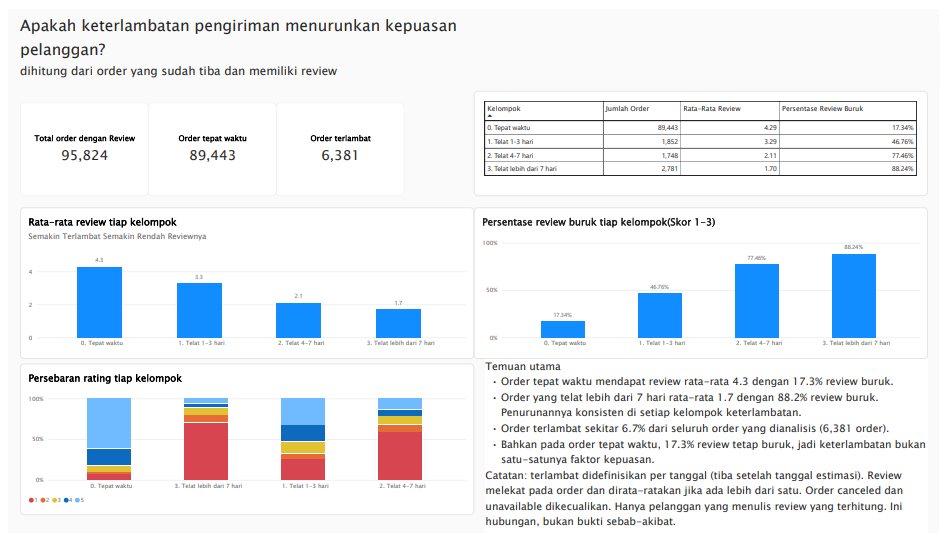

The page's visual inventory and layout, read from the dashboard file:
{"tool":"powerbi","page":{"name":"Pengiriman dan Kepuasan","canvas":[1920,1080],"ordinal":1},"visuals":[{"type":"textbox","box":[24,0,1080,192],"z":0},{"type":"cardVisual","fields":{"Data":["Sum(Review Skor Terlambat(Level Order).Jumlah Order)"]},"box":[24,192,264,192],"z":1000},{"type":"cardVisual","fields":{"Data":["Sum(Review Skor Terlambat(Level Order).Jumlah Order)"]},"box":[288,192,264,192],"z":2000},{"type":"cardVisual","fields":{"Data":["Sum(Review Skor Terlambat(Level Order).Jumlah Order)"]},"box":[552,192,264,192],"z":3000},{"type":"clusteredColumnChart","title":"Rata-rata review tiap kelompok","fields":{"Category":["Review Skor Terlambat(Level Order).Kelompok"],"Y":["Sum(Review Skor Terlambat(Level Order).Rata Review)"]},"box":[24,408,936,312],"z":4000},{"type":"clusteredColumnChart","title":"Persentase review buruk tiap kelompok(Skor 1-3)","fields":{"Category":["Review Skor Terlambat(Level Order).Kelompok"],"Y":["Review Skor Terlambat(Level Order).Persen"]},"box":[960,408,936,312],"z":5000},{"type":"tableEx","title":"Persebaran Data","fields":{"Values":["Review Skor Terlambat(Level Order).Kelompok","Sum(Review Skor Terlambat(Level Order).Jumlah Order)","Review Skor Terlambat(Level Order).Rata Review","Review Skor Terlambat(Level Order).Persen"]},"box":[960,168,936,216],"z":6000},{"type":"hundredPercentStackedColumnChart","title":"Persebaran rating tiap kelompok","fields":{"Category":["Persebaran Review.kelompok"],"Series":["Persebaran Review.skor"],"Y":["Sum(Persebaran Review.jumlah_order)"]},"box":[24,730,936,312],"z":7000},{"type":"textbox","box":[984,720,912,360],"z":8000}]}

Visuals, with their boxes in screenshot pixels (x1, y1, x2, y2), scaled from the page's 1920x1080 canvas onto the 947x542 screenshot:
textbox: BBox(12, 0, 545, 96)
cardVisual - Sum(Review Skor Terlambat(Level Order).Jumlah Order): BBox(12, 96, 142, 193)
cardVisual - Sum(Review Skor Terlambat(Level Order).Jumlah Order): BBox(142, 96, 272, 193)
cardVisual - Sum(Review Skor Terlambat(Level Order).Jumlah Order): BBox(272, 96, 402, 193)
"Rata-rata review tiap kelompok" clusteredColumnChart: BBox(12, 205, 474, 361)
"Persentase review buruk tiap kelompok(Skor 1-3)" clusteredColumnChart: BBox(474, 205, 935, 361)
"Persebaran Data" tableEx: BBox(474, 84, 935, 193)
"Persebaran rating tiap kelompok" hundredPercentStackedColumnChart: BBox(12, 366, 474, 523)
textbox: BBox(485, 361, 935, 541)
